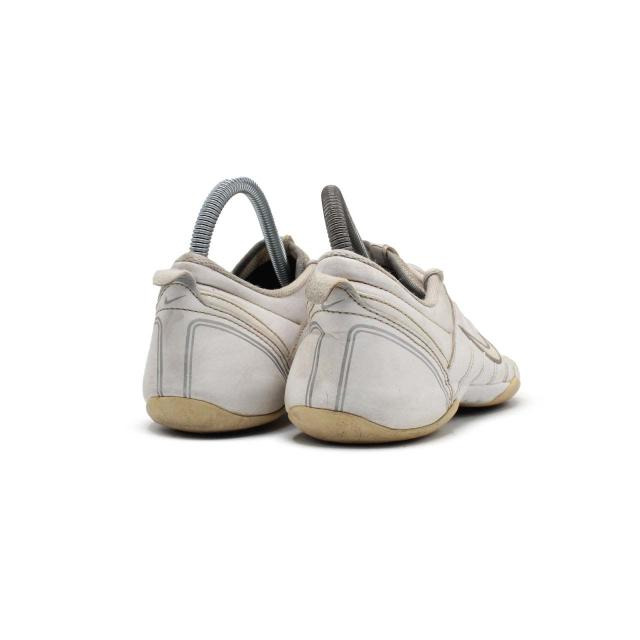heel: (289, 254, 433, 424), (142, 254, 278, 413)
midsole: (283, 375, 518, 442), (145, 393, 287, 436)
